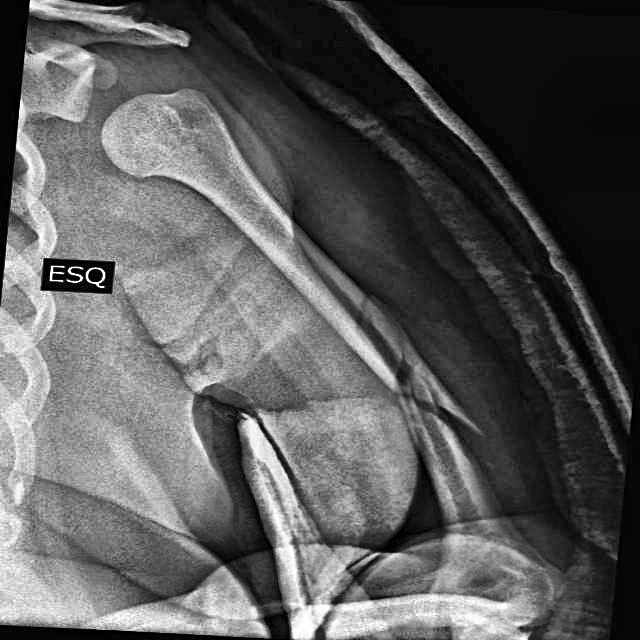Spiral: (352, 305, 490, 460)
